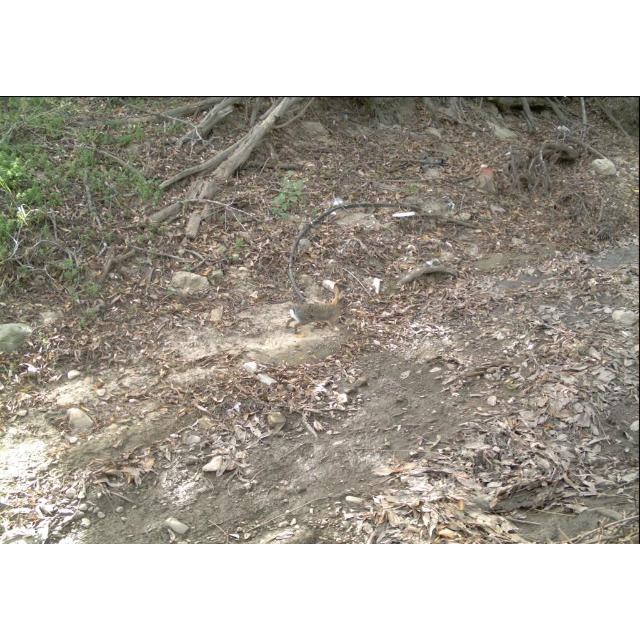animals: (284, 294, 358, 334)
